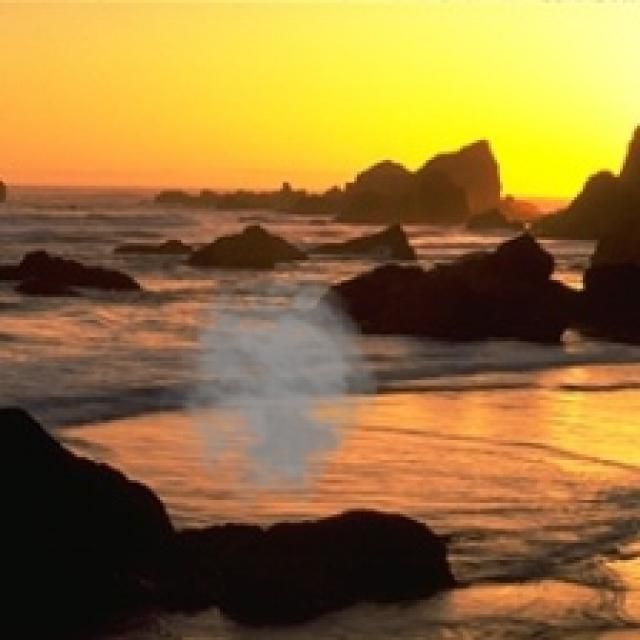smoke: (154, 266, 380, 520)
